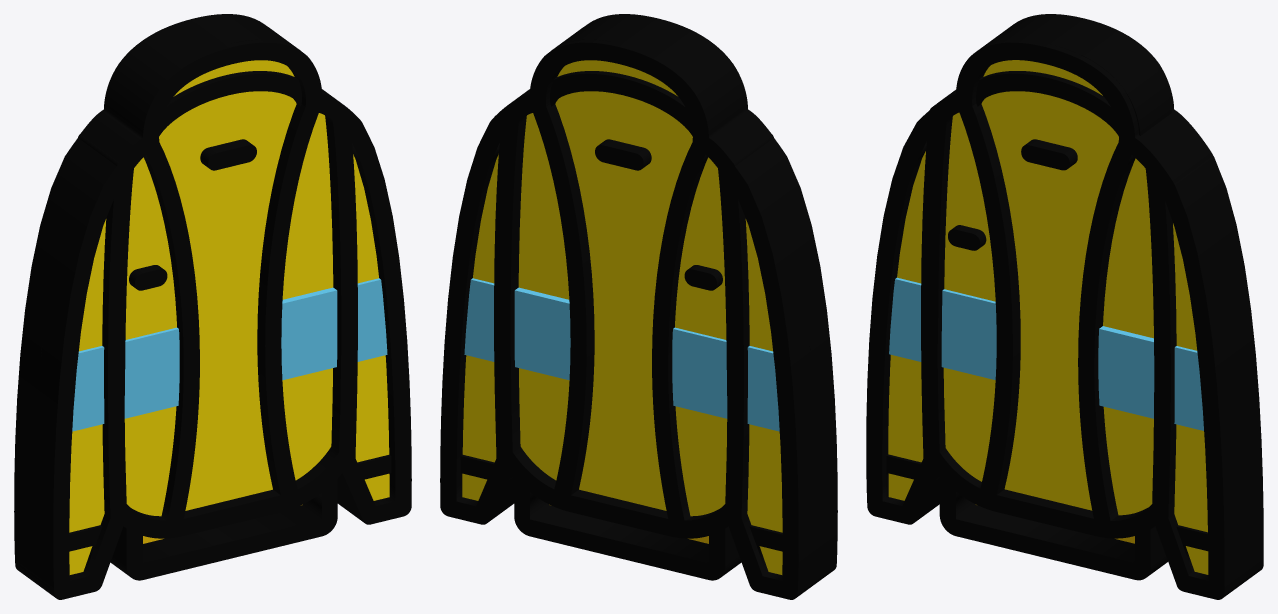
The model's file is Coat.fbx.
The picture shows the model from 3 angles, left to right: view 1: azimuth 30°, elevation 25°; view 2: azimuth 150°, elevation 25°; view 3: azimuth 330°, elevation 25°; orthographic projection.
Visible parts, largest first — view 1: Curve.004, Curve.015, Curve.027, Curve.026, Curve.016, Curve.017, Curve.018, Curve.007, Curve.001, Curve.003, Curve.028, Curve.014 (+7 smaller); view 2: Curve.004, Curve.015, Curve.027, Curve.016, Curve.026, Curve.017, Curve.018, Curve.007, Curve.001, Curve.003, Curve.028, Curve.014 (+7 smaller); view 3: Curve.004, Curve.016, Curve.027, Curve.015, Curve.026, Curve.018, Curve.017, Curve.007, Curve.028, Curve.001, Curve.003, Curve.014 (+7 smaller).
Boxes of the visible parts, x1,y1,x2,y2 form: Curve.004: (159, 60, 333, 510); Curve.015: (14, 138, 133, 599); Curve.027: (257, 94, 357, 508); Curve.026: (78, 110, 199, 537); Curve.016: (327, 105, 411, 524); Curve.017: (102, 14, 357, 497); Curve.018: (110, 463, 337, 580); Curve.007: (124, 157, 176, 516); Curve.001: (69, 219, 106, 574); Curve.003: (353, 154, 389, 500); Curve.028: (159, 16, 301, 136); Curve.014: (281, 287, 337, 380); Curve.004: (518, 60, 692, 510); Curve.015: (718, 138, 837, 599); Curve.027: (494, 94, 594, 509); Curve.016: (440, 106, 524, 524); Curve.026: (652, 110, 773, 538); Curve.017: (494, 14, 749, 497); Curve.018: (514, 463, 741, 580); Curve.007: (675, 157, 727, 516); Curve.001: (745, 219, 782, 574); Curve.003: (462, 154, 498, 500); Curve.028: (550, 16, 692, 136); Curve.014: (514, 287, 570, 380); Curve.004: (981, 60, 1153, 515); Curve.016: (1146, 134, 1263, 599); Curve.027: (1078, 134, 1176, 538); Curve.015: (866, 106, 946, 524); Curve.026: (921, 89, 1020, 508); Curve.018: (939, 465, 1167, 580); Curve.017: (921, 14, 1197, 520); Curve.007: (943, 112, 995, 481); Curve.028: (976, 18, 1171, 136); Curve.001: (888, 151, 925, 500); Curve.003: (1173, 223, 1208, 574); Curve.014: (1098, 326, 1154, 418).
Size of the model in its own units: 106 by 144 by 20.01.
